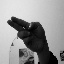h: (6, 15, 49, 52)
